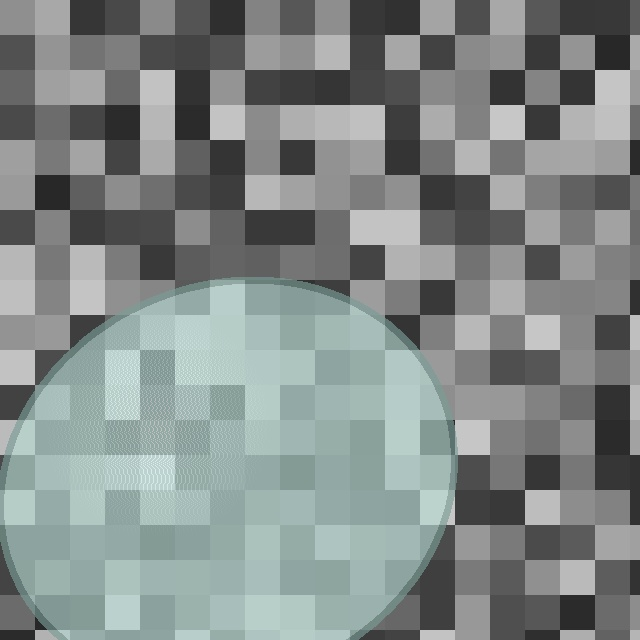lens: (1, 280, 453, 640)
